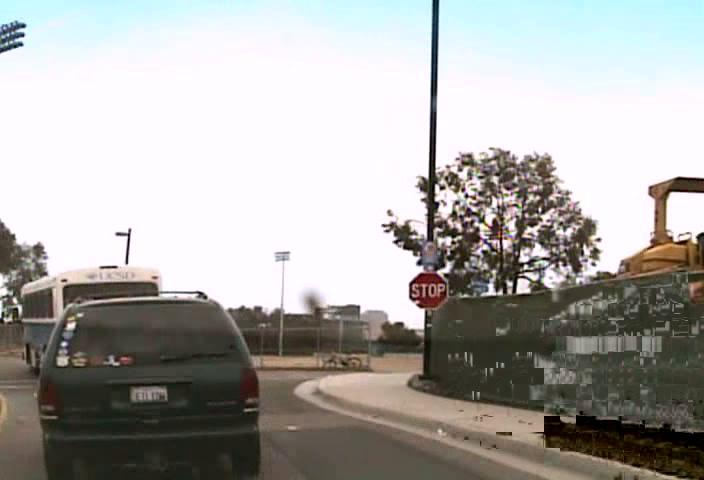stop: (407, 270, 448, 310)
